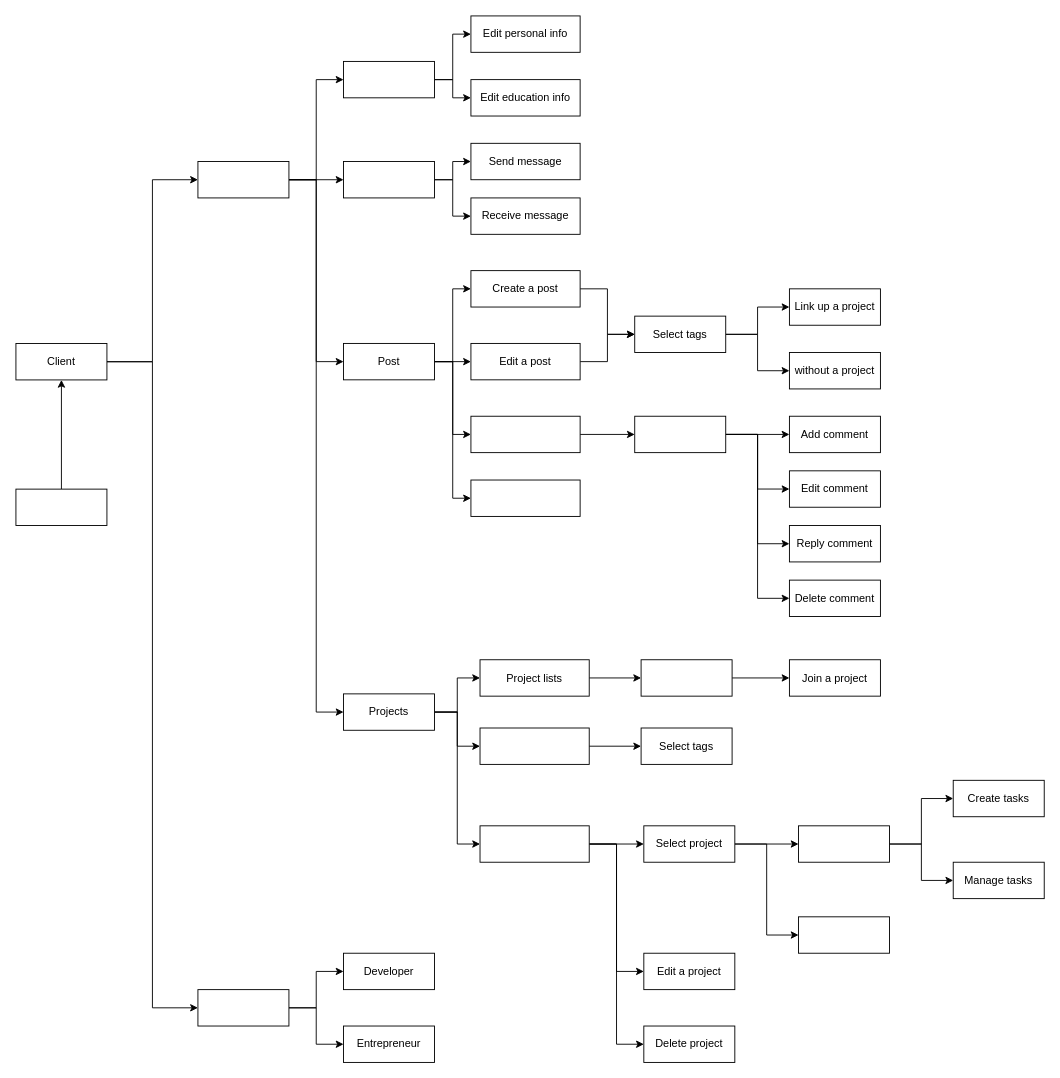
Image size: 1060x1078. Some labels were removed from this diagram. The shapes that lost their labels are listed below. From the top down, each one's centre as x and y in pixels, then its label:
point (389, 79): Profile
point (243, 179): Sign in
point (389, 179): Message
point (525, 434): View posts
point (680, 434): Comment
point (61, 507): Admin
point (525, 497): Delete post
point (686, 677): Project detail
point (534, 745): Create a project
point (534, 843): My projects
point (844, 843): Task
point (844, 934): Group chat
point (243, 1007): Sign up
